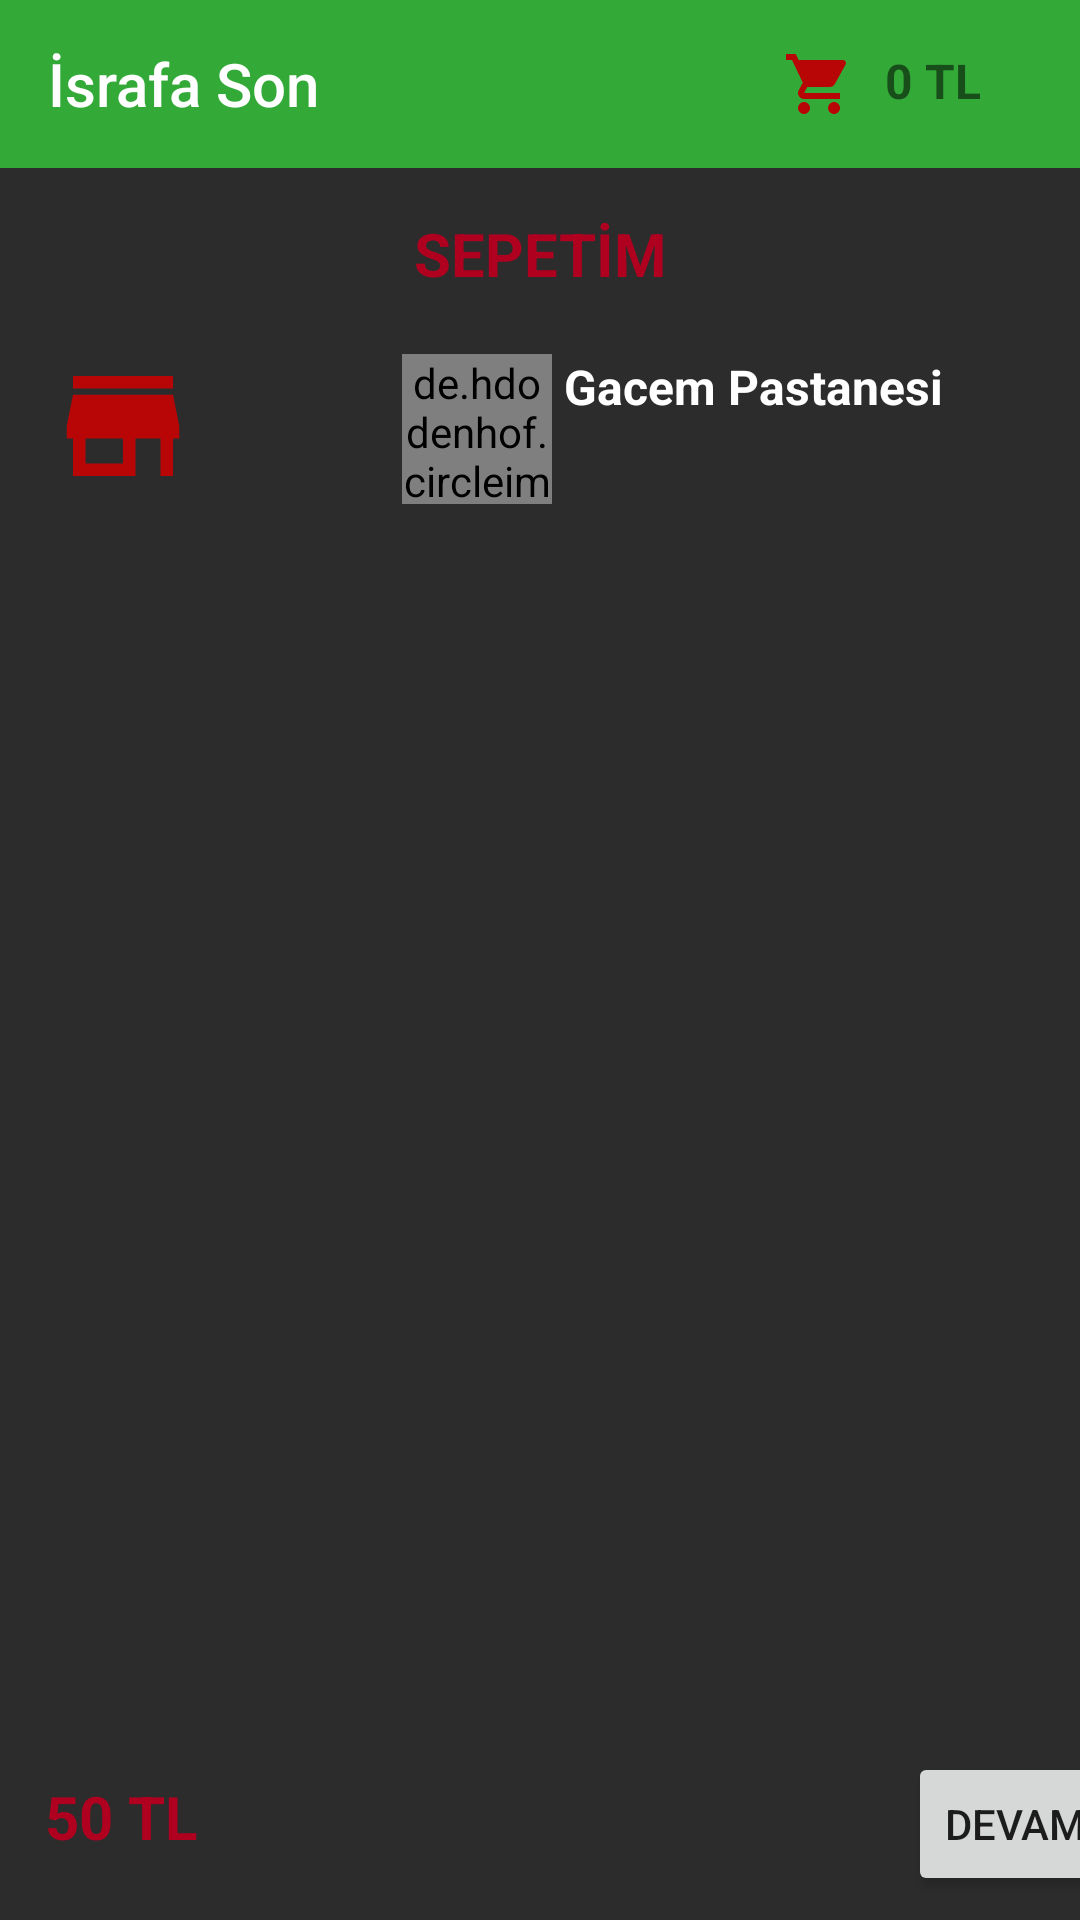

Named icons in this screenshot (1080w x 1920h) and their centers, [x,y]:
shopping cart: [816,84]
store mall directory: [123,426]
